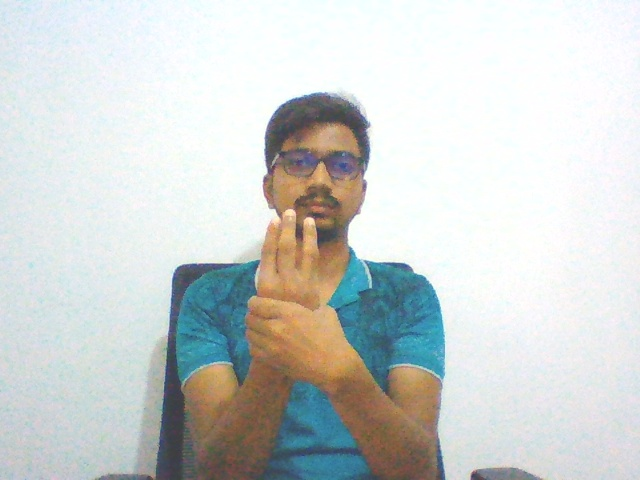tree: (238, 199, 367, 391)
